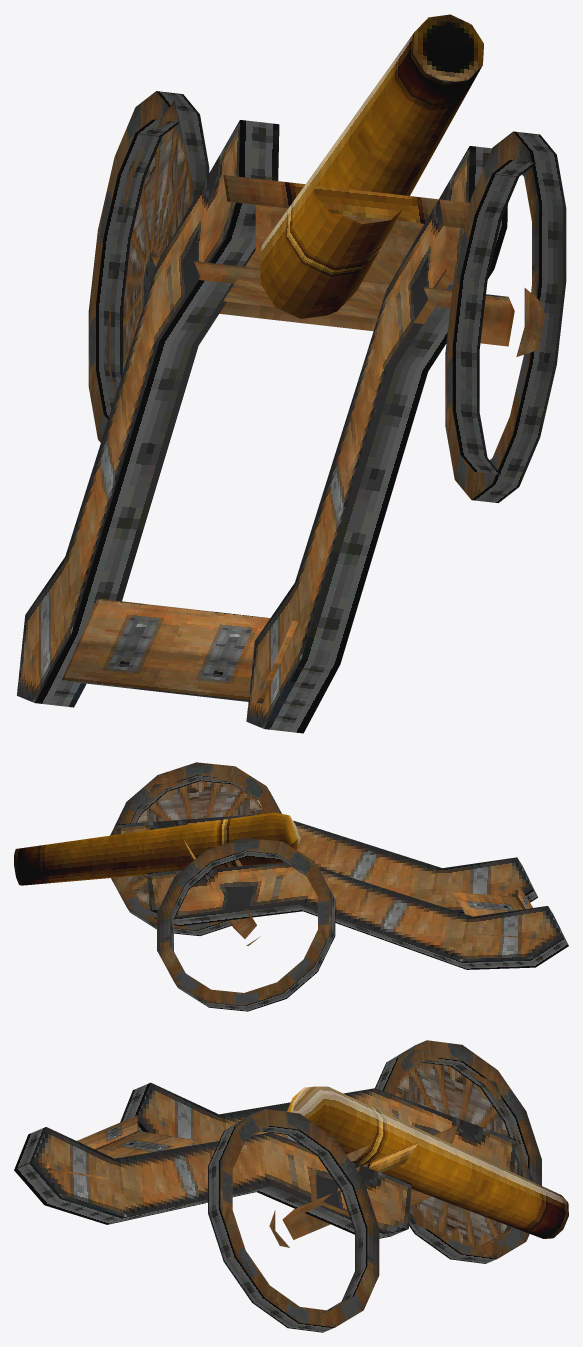
The model's file is ps2_save-icons_risk.glb.
3 renders of one model, top to bottom at view 1: azimuth 30°, elevation 25°; view 2: azimuth 150°, elevation 25°; view 3: azimuth 270°, elevation 25°, orthographic. The views are drawn at different scales.
Parts seen in each view (by area): view 1: RiskView.ICO; view 2: RiskView.ICO; view 3: RiskView.ICO.
Boxes of the visible parts, box(x1,y1,x2,y2) form: RiskView.ICO: box(17, 14, 566, 733); RiskView.ICO: box(14, 762, 568, 1011); RiskView.ICO: box(14, 1040, 568, 1332).
Size of the model in its own units: 3.58 by 1.47 by 3.51.
1 material, 1 textured.
